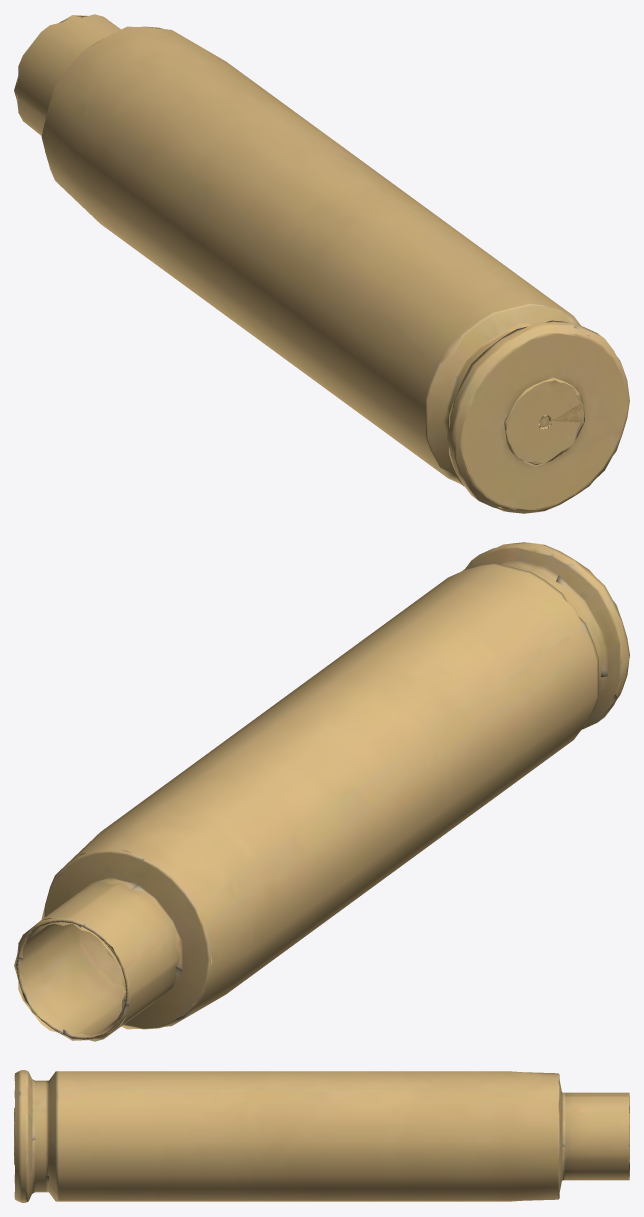
File: casing_556.glb
The picture shows the model from 3 angles, top to bottom: view 1: azimuth 30°, elevation 25°; view 2: azimuth 150°, elevation 25°; view 3: azimuth 270°, elevation 25°; orthographic projection. The views are drawn at different scales.
Parts seen in each view (by area): view 1: Casing556; view 2: Casing556; view 3: Casing556.
Boxes of the visible parts, x1,y1,x2,y2 form: Casing556: (14,14,629,513); Casing556: (14,542,629,1041); Casing556: (14,1070,629,1202).
Size of the model in its own units: 0.00977 by 0.00977 by 0.0446.
1 material, 1 textured.
